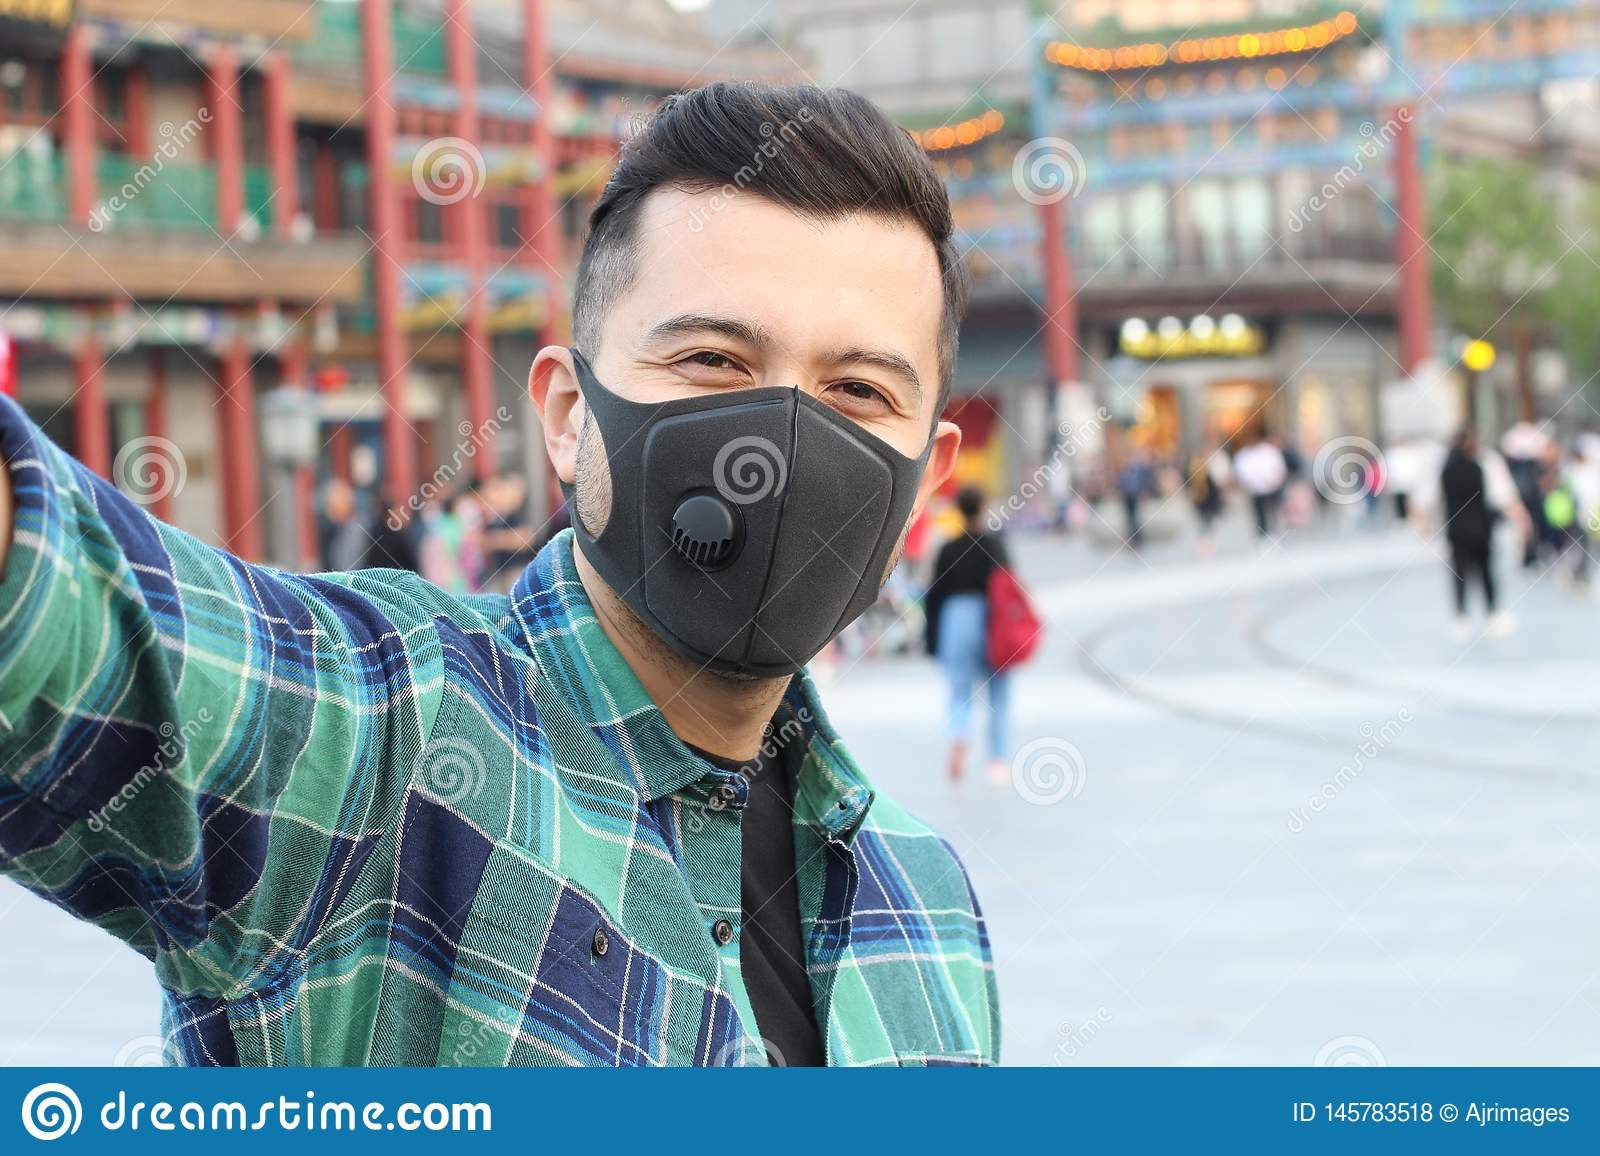mask: (498, 60, 1069, 688)
